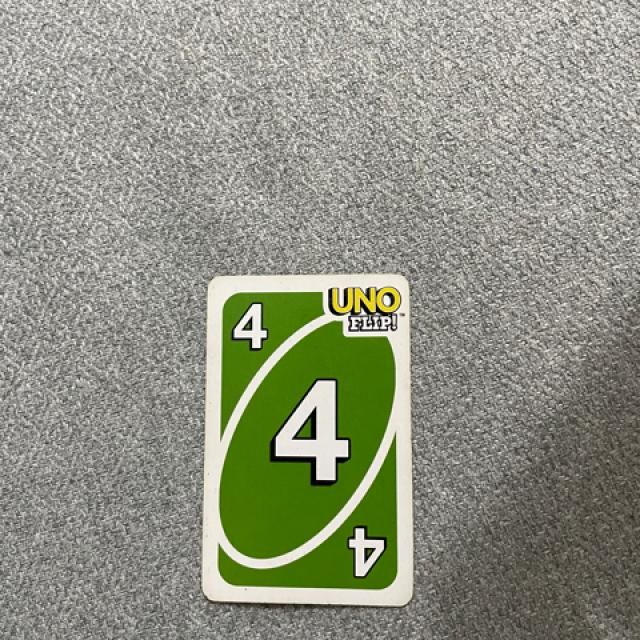lgreen-4: (220, 290, 286, 364)
